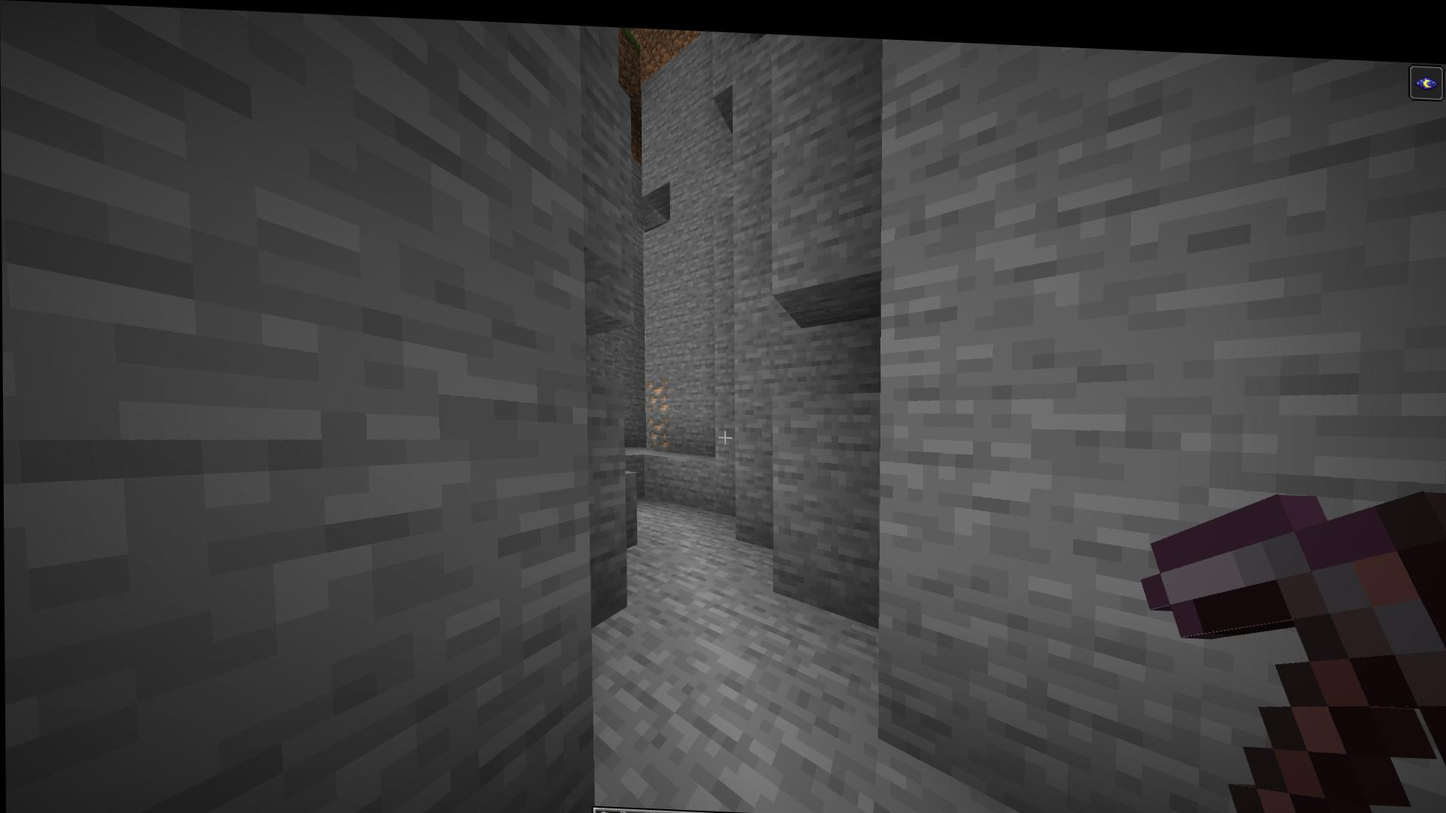iron ore: (643, 372, 674, 408), (645, 407, 673, 446)
